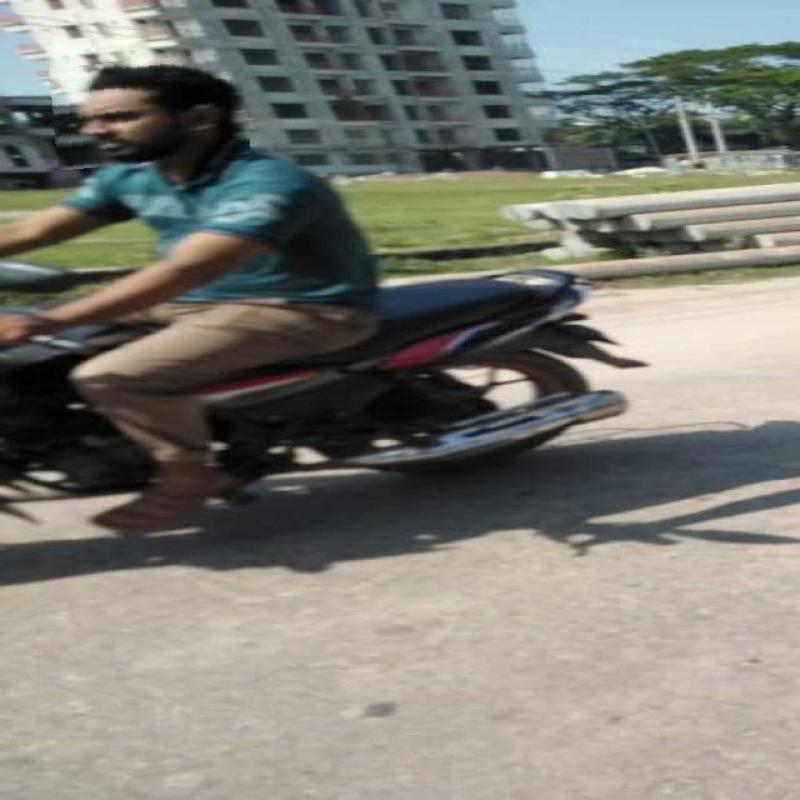nohelmet: (51, 55, 249, 166)
